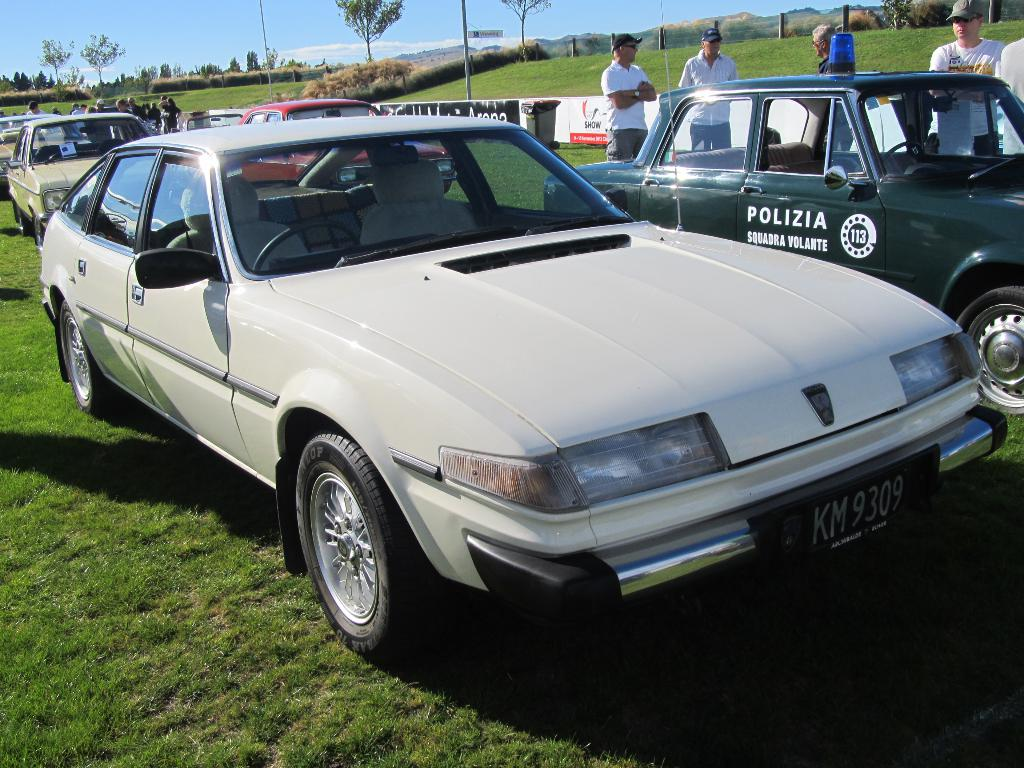Car: (0, 31, 1023, 663)
